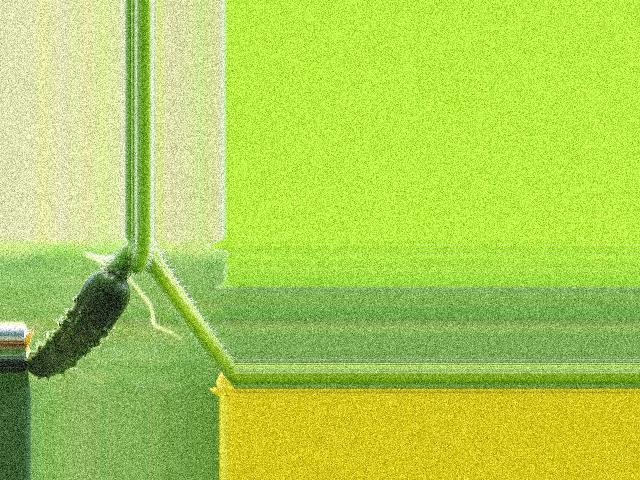cucumber: (27, 272, 132, 379)
